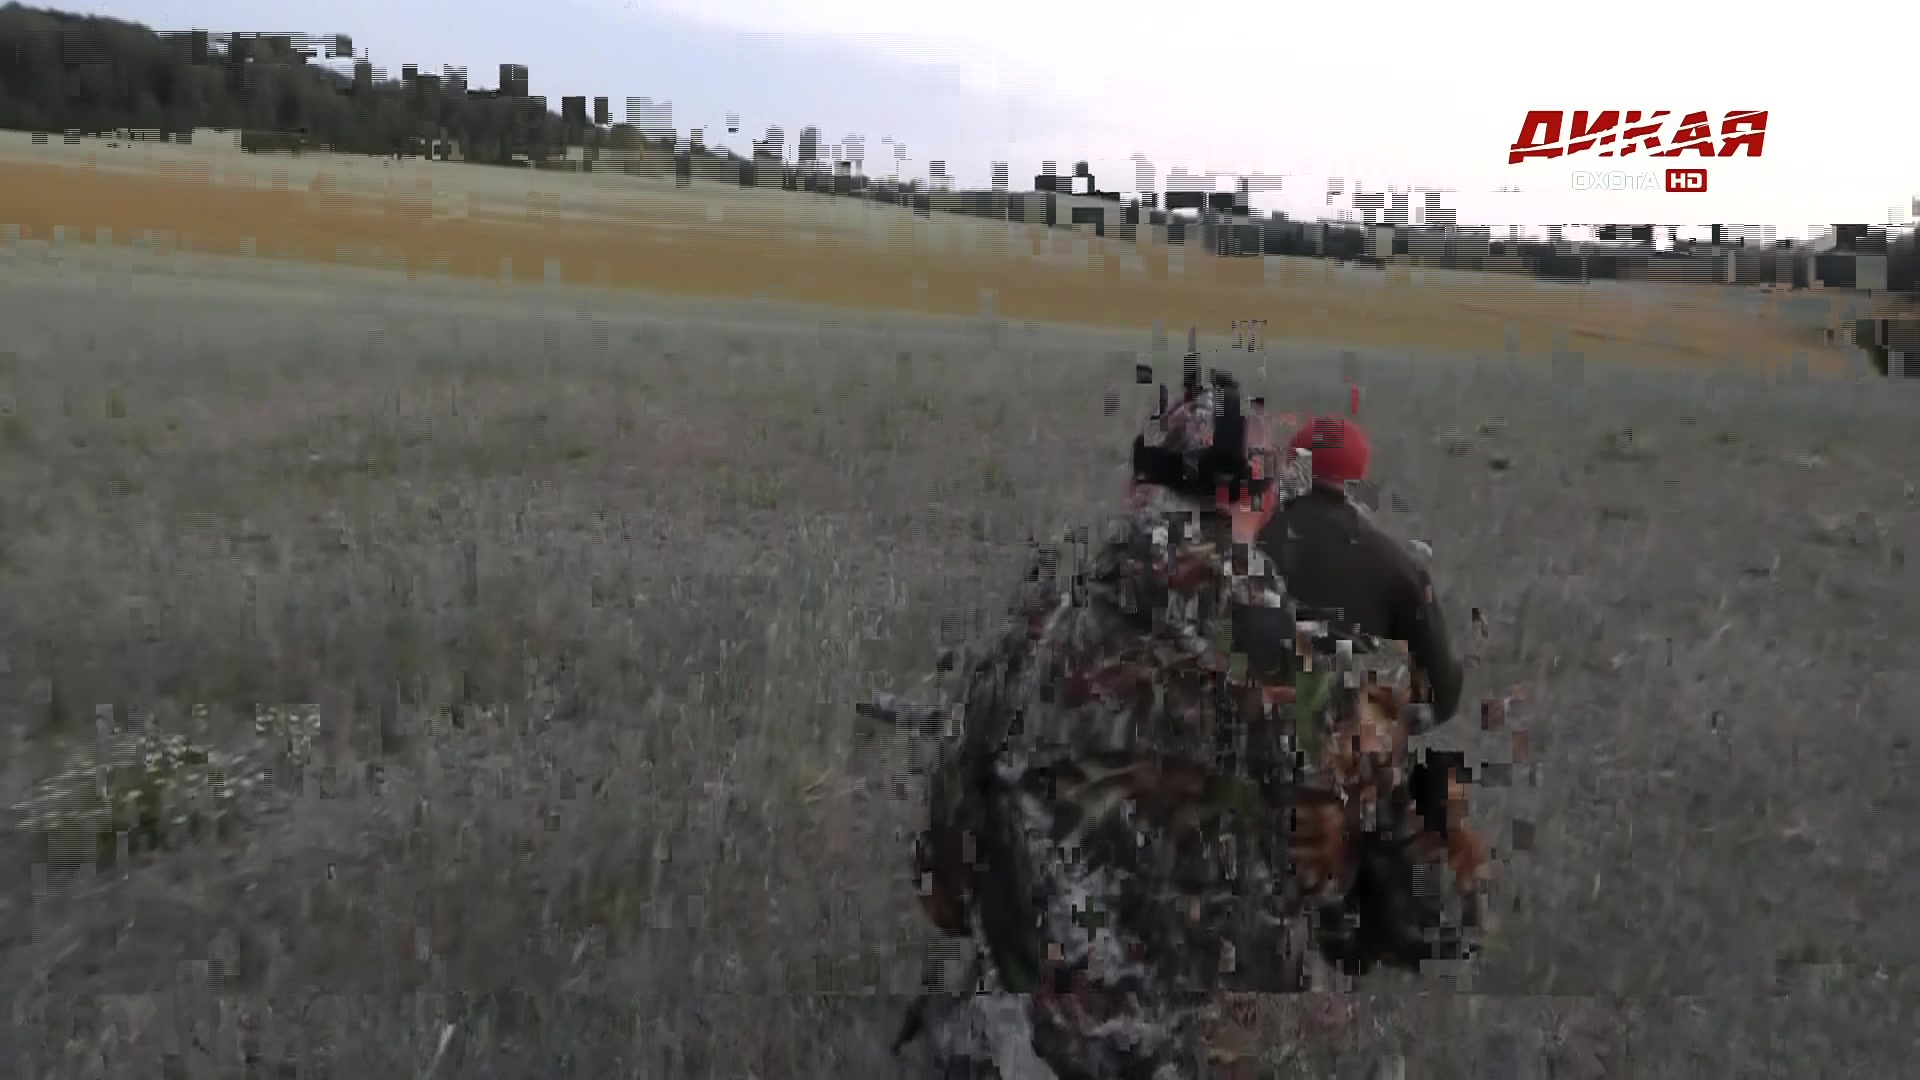Dikaya_Ohota_HD: (1501, 105, 1775, 196)
